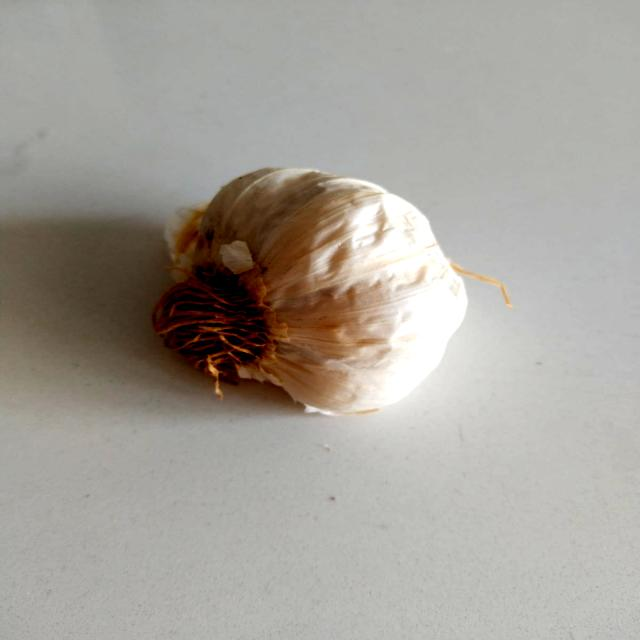garlic: (128, 153, 560, 432)
